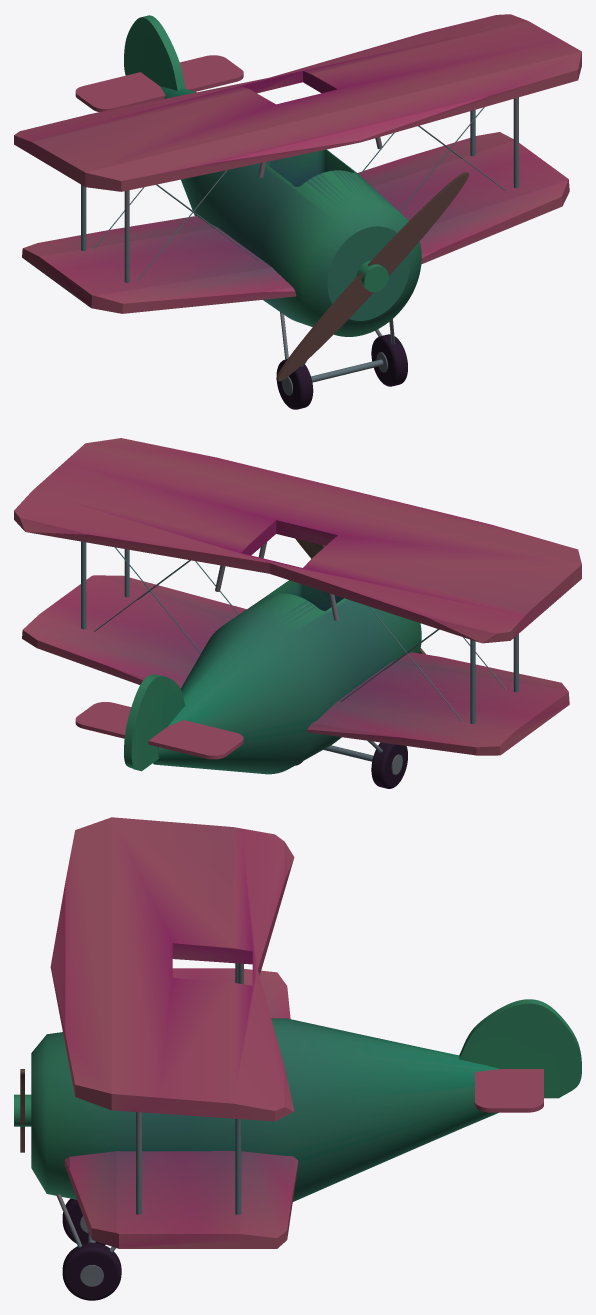
3 views of the same model, one above another, from view 1: azimuth 30°, elevation 25°; view 2: azimuth 150°, elevation 25°; view 3: azimuth 270°, elevation 25° (orthographic). The views are drawn at different scales.
Visible parts, largest first — view 1: upper, body, lower_half.001, lower_half, blade, tailplane, fin, tire, tire.001, hub, posts.002, posts (+1 smaller); view 2: upper, body, lower_half.001, lower_half, tailplane, fin, tire.001, posts.001, posts.003; view 3: upper, body, lower_half, fin, tailplane, tire, lower_half.001, posts.001, tire.001, posts.
Part boxes in pixels (x1=…): upper: x1=14, y1=14, x2=581, y2=191; body: x1=160, y1=86, x2=421, y2=336; lower_half.001: x1=22, y1=216, x2=296, y2=313; lower_half: x1=358, y1=132, x2=569, y2=264; blade: x1=276, y1=171, x2=468, y2=381; tailplane: x1=75, y1=55, x2=243, y2=111; fin: x1=124, y1=15, x2=185, y2=90; tire: x1=371, y1=334, x2=407, y2=386; tire.001: x1=276, y1=359, x2=313, y2=409; hub: x1=356, y1=260, x2=388, y2=292; posts.002: x1=124, y1=190, x2=129, y2=282; posts: x1=513, y1=97, x2=518, y2=188; upper: x1=14, y1=438, x2=581, y2=643; body: x1=153, y1=580, x2=421, y2=774; lower_half.001: x1=306, y1=652, x2=569, y2=755; lower_half: x1=22, y1=575, x2=246, y2=688; tailplane: x1=75, y1=702, x2=243, y2=759; fin: x1=124, y1=674, x2=185, y2=771; tire.001: x1=371, y1=742, x2=407, y2=788; posts.001: x1=81, y1=541, x2=86, y2=629; posts.003: x1=470, y1=639, x2=475, y2=723; upper: x1=50, y1=817, x2=294, y2=1121; body: x1=31, y1=1018, x2=498, y2=1201; lower_half: x1=64, y1=1151, x2=298, y2=1248; fin: x1=459, y1=999, x2=581, y2=1098; tailplane: x1=475, y1=1069, x2=543, y2=1112; tire: x1=62, y1=1242, x2=121, y2=1300; lower_half.001: x1=172, y1=968, x2=290, y2=1018; posts.001: x1=235, y1=1118, x2=241, y2=1214; tire.001: x1=62, y1=1198, x2=105, y2=1245; posts: x1=136, y1=1112, x2=141, y2=1214.
Bounding box in the file's own units: 9 × 4.8 × 7.81.
